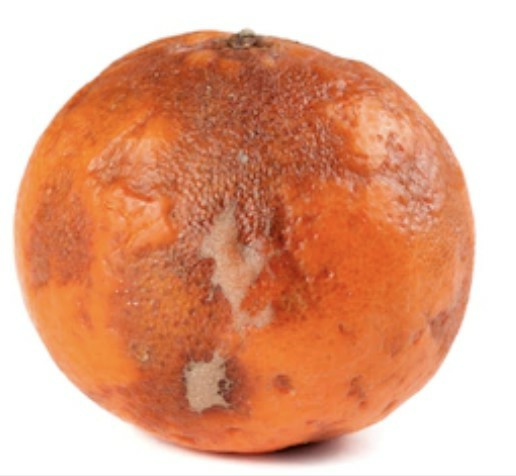rotten_orange: (15, 30, 472, 452)
